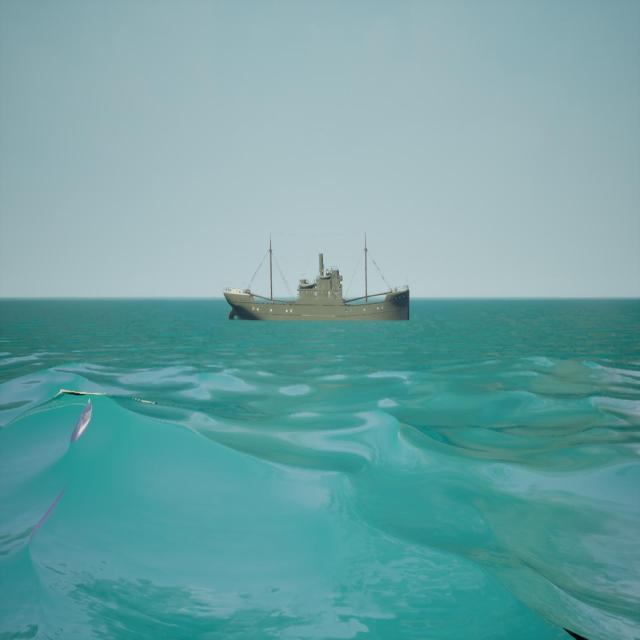fishing ship: (225, 238, 414, 324)
